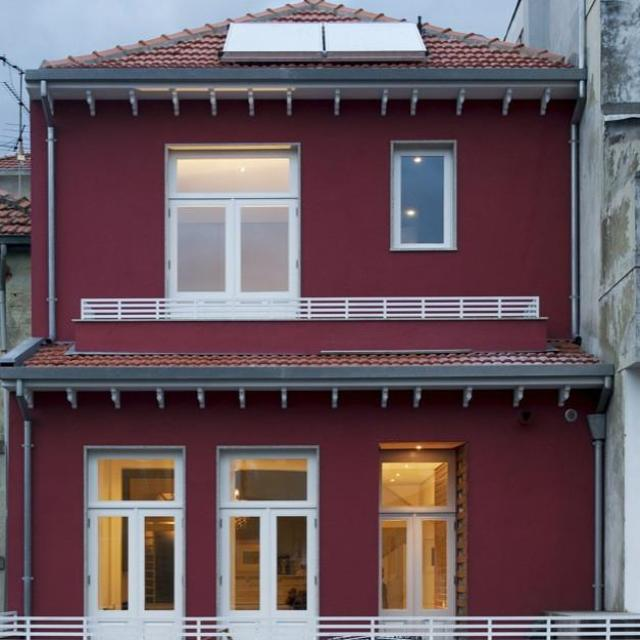Railing: (82, 300, 542, 318)
door: (86, 504, 185, 639), (219, 504, 315, 639), (380, 506, 455, 636)
wall: (0, 0, 611, 639)
windows: (166, 146, 300, 318), (393, 147, 455, 248), (218, 448, 318, 503), (85, 452, 185, 504), (382, 454, 456, 508)
